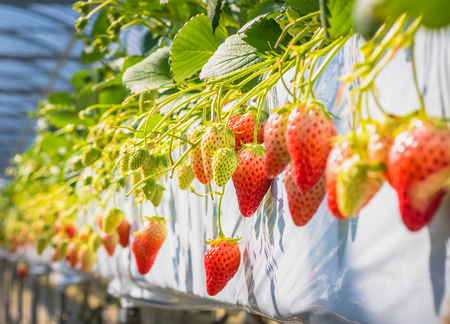ripe: (384, 113, 446, 233), (324, 130, 387, 220), (285, 100, 333, 191), (280, 147, 328, 233), (232, 142, 277, 221), (201, 236, 246, 301), (126, 231, 156, 278), (114, 217, 132, 251)
unripe: (257, 102, 302, 178), (199, 119, 235, 182), (187, 120, 216, 188), (340, 152, 370, 217), (209, 144, 239, 192), (139, 216, 170, 259), (225, 101, 254, 145), (175, 147, 198, 193), (98, 204, 125, 235), (127, 146, 153, 172), (102, 227, 121, 255), (148, 182, 168, 207), (78, 243, 95, 271), (87, 229, 103, 251), (118, 149, 132, 174), (141, 176, 156, 198)
